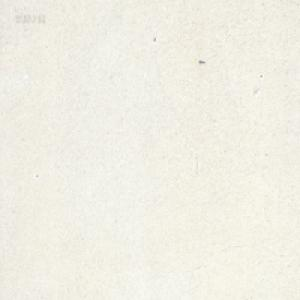Nail: (198, 58, 205, 63)
